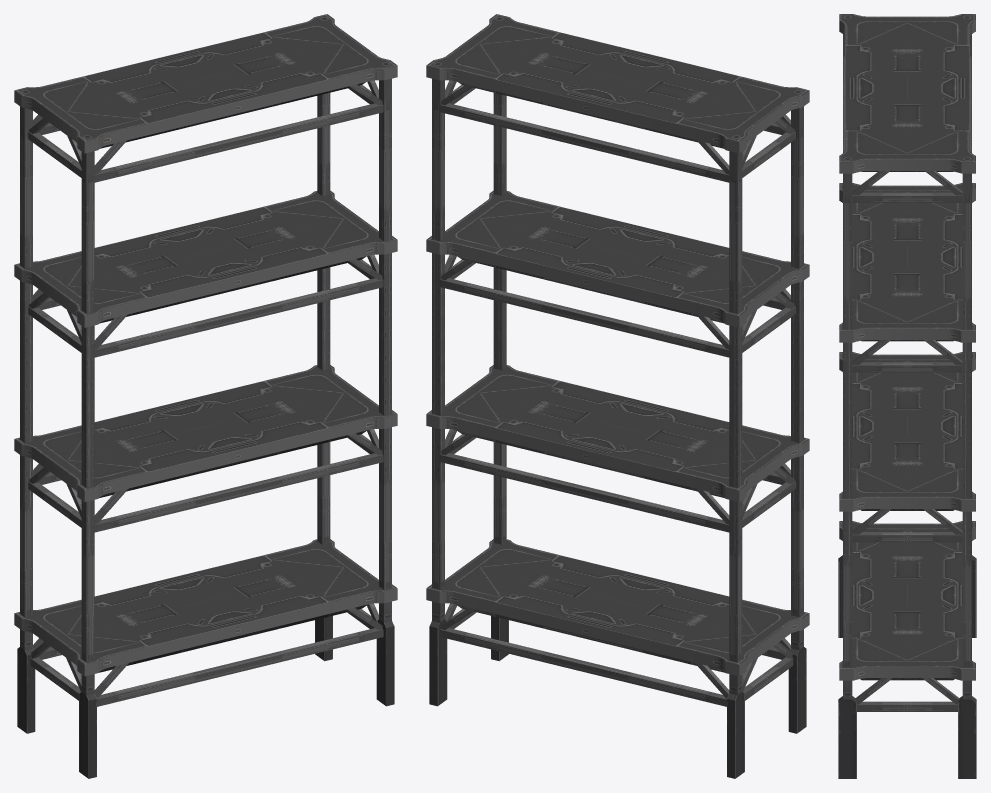
File: Prop_Shelves_ThinTall.gltf
3 renders of one model, left to right at view 1: azimuth 30°, elevation 25°; view 2: azimuth 150°, elevation 25°; view 3: azimuth 270°, elevation 25°, orthographic. The views are drawn at different scales.
Visible parts, largest first — view 1: Prop_Shelves_ThinTall; view 2: Prop_Shelves_ThinTall; view 3: Prop_Shelves_ThinTall.
Boxes of the visible parts, x1=… form: Prop_Shelves_ThinTall: x1=14, y1=14, x2=397, y2=778; Prop_Shelves_ThinTall: x1=426, y1=14, x2=809, y2=778; Prop_Shelves_ThinTall: x1=838, y1=14, x2=976, y2=778.
Bounding box in the file's own units: 1.37 × 2.67 × 0.5407.
Materials: 1 (1 with a texture image).
